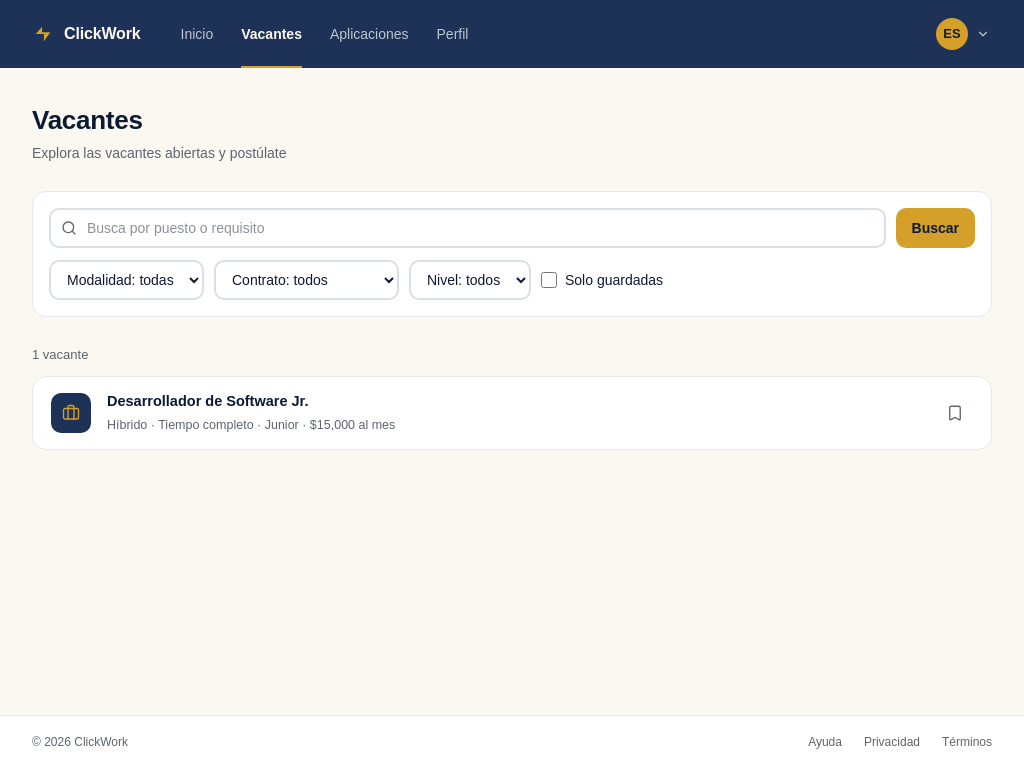
Test case: JobsPage › sends the search to the backend and explains an empty result
The image size is (1024, 768).
Expected: the text "1 vacante" is shown, [32,346,88,362]
Type "contador" into the search field named "Buscar vacantes" at (467, 228), box [49,208,886,248]
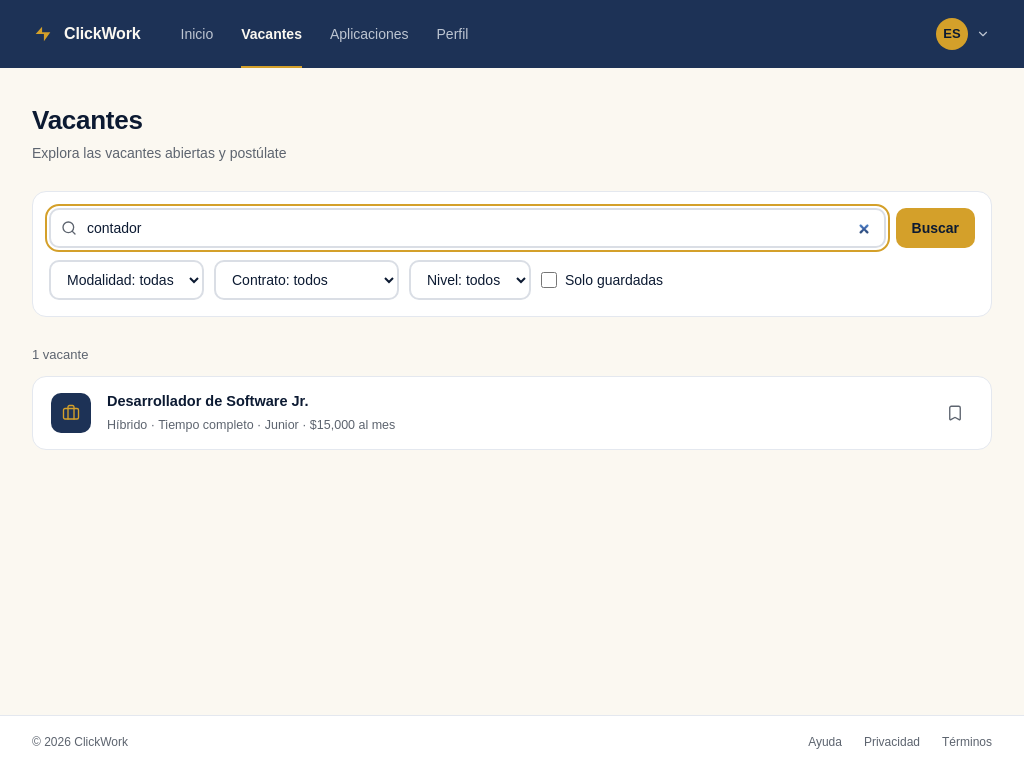
Click the button "Buscar" at (935, 228), box [896,208,975,248]
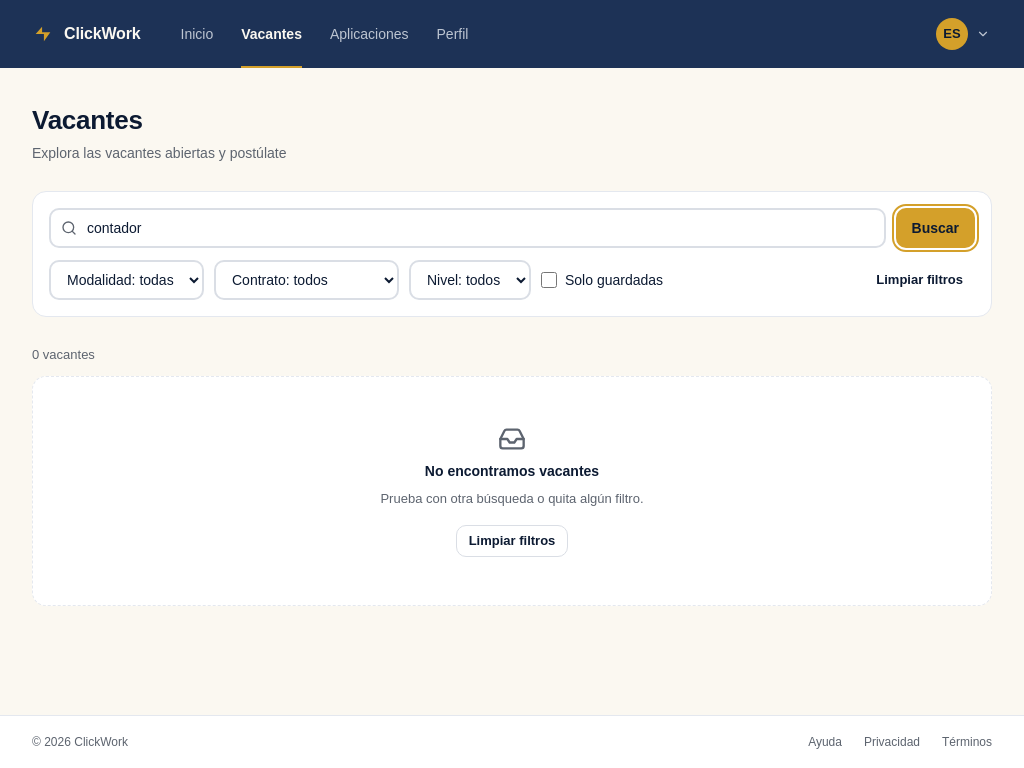
Expected: the text "No encontramos vacantes" is shown, [425,461,599,481]
